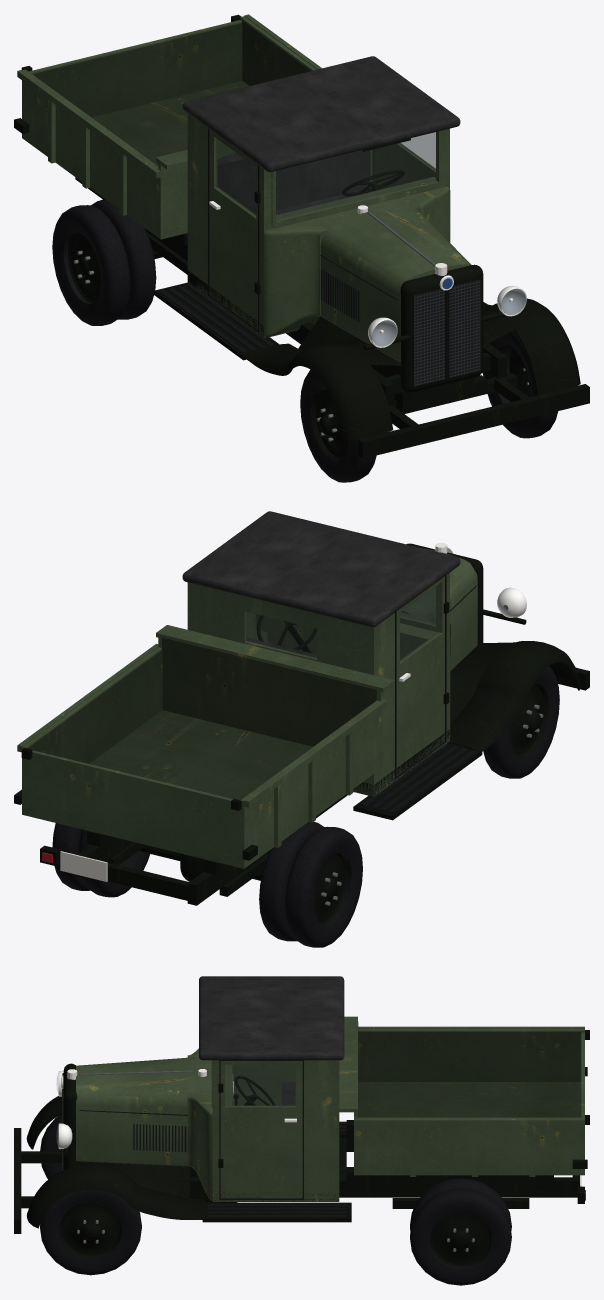
The model's file is gaz_aa_dump.glb.
3 renders of one model, top to bottom at view 1: azimuth 30°, elevation 25°; view 2: azimuth 150°, elevation 25°; view 3: azimuth 270°, elevation 25°, orthographic. The views are drawn at different scales.
Parts seen in each view (by area): view 1: gaz_aa_dump; view 2: gaz_aa_dump; view 3: gaz_aa_dump.
Part boxes in pixels (x1,y1,x2,y2): gaz_aa_dump: (14,14,589,482); gaz_aa_dump: (14,511,589,947); gaz_aa_dump: (14,976,589,1285).
Size of the model in its own units: 1.98 by 1.97 by 4.64.
19 materials, 6 textured.
